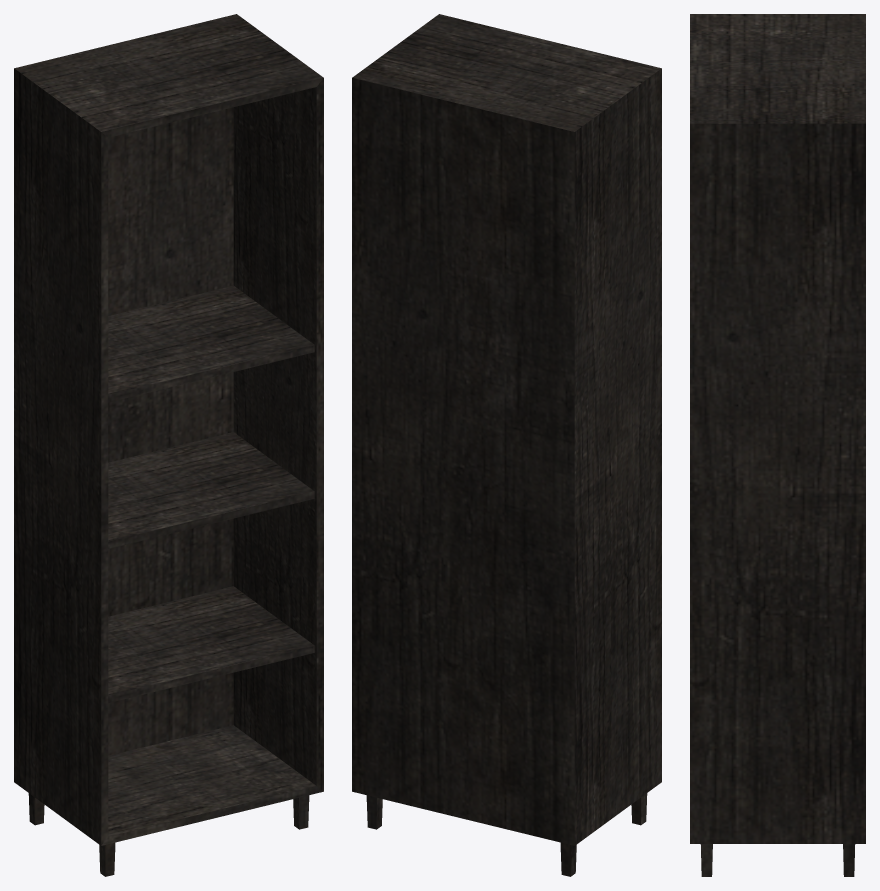
The model's file is shelf_mp_1.obj.
3 renders of one model, left to right at view 1: azimuth 30°, elevation 25°; view 2: azimuth 150°, elevation 25°; view 3: azimuth 270°, elevation 25°, orthographic.
Visible parts, largest first — view 1: shelf_mp_1; view 2: shelf_mp_1; view 3: shelf_mp_1.
Boxes of the visible parts, x1,y1,x2,y2 form: shelf_mp_1: (14, 14, 323, 876); shelf_mp_1: (352, 14, 661, 876); shelf_mp_1: (690, 14, 865, 876).
Size of the model in its own units: 0.62 by 2 by 0.42.
